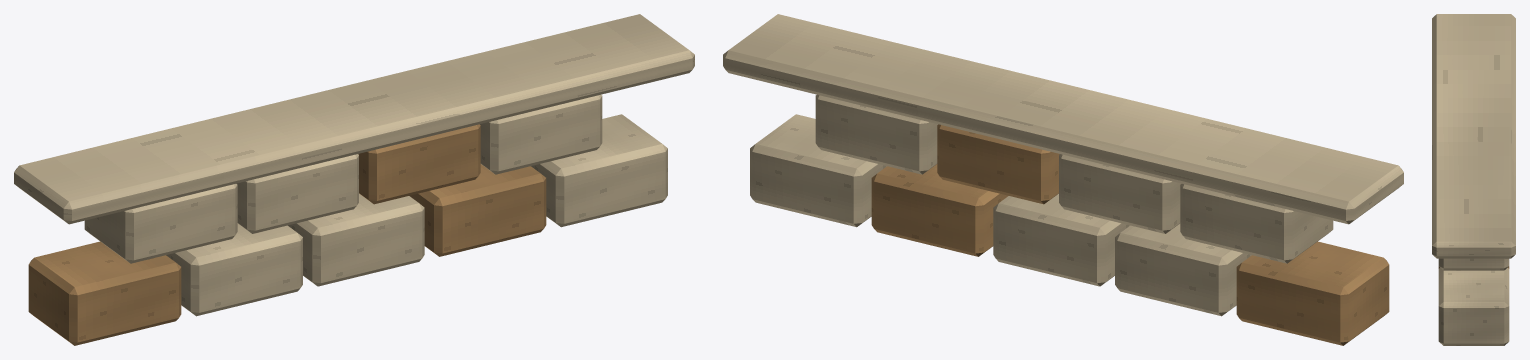
File: LowStoneWall.glb
3 renders of one model, left to right at view 1: azimuth 30°, elevation 25°; view 2: azimuth 150°, elevation 25°; view 3: azimuth 270°, elevation 25°, orthographic. The views are drawn at different scales.
Visible parts, largest first — view 1: Coping, LowWall_0_0, LowWall_0_4, LowWall_0_3, LowWall_0_1, LowWall_0_2, LowWall_1_0, LowWall_1_3, LowWall_1_2, LowWall_1_1; view 2: Coping, LowWall_0_0, LowWall_0_4, LowWall_0_3, LowWall_0_1, LowWall_0_2, LowWall_1_0, LowWall_1_3, LowWall_1_2, LowWall_1_1; view 3: Coping, LowWall_0_4, LowWall_1_3.
Boxes of the visible parts, left/top/right/bottom form: Coping: left=14, top=14, right=694, bottom=224; LowWall_0_0: left=28, top=241, right=181, bottom=345; LowWall_0_4: left=531, top=114, right=667, bottom=227; LowWall_0_3: left=409, top=164, right=546, bottom=256; LowWall_0_1: left=166, top=223, right=302, bottom=316; LowWall_0_2: left=288, top=193, right=424, bottom=286; LowWall_1_0: left=84, top=184, right=237, bottom=263; LowWall_1_3: left=480, top=94, right=602, bottom=174; LowWall_1_2: left=358, top=124, right=480, bottom=204; LowWall_1_1: left=236, top=154, right=358, bottom=233; Coping: left=723, top=14, right=1403, bottom=224; LowWall_0_0: left=1236, top=241, right=1389, bottom=345; LowWall_0_4: left=750, top=114, right=886, bottom=227; LowWall_0_3: left=871, top=164, right=1008, bottom=256; LowWall_0_1: left=1115, top=223, right=1251, bottom=316; LowWall_0_2: left=993, top=193, right=1129, bottom=286; LowWall_1_0: left=1180, top=184, right=1333, bottom=263; LowWall_1_3: left=815, top=94, right=937, bottom=174; LowWall_1_2: left=937, top=124, right=1059, bottom=204; LowWall_1_1: left=1059, top=154, right=1181, bottom=233; Coping: left=1432, top=14, right=1515, bottom=258; LowWall_0_4: left=1438, top=267, right=1509, bottom=345; LowWall_1_3: left=1438, top=258, right=1509, bottom=270.
Size of the model in its own units: 4.05 by 0.92 by 0.62.
2 materials, 2 textured.
